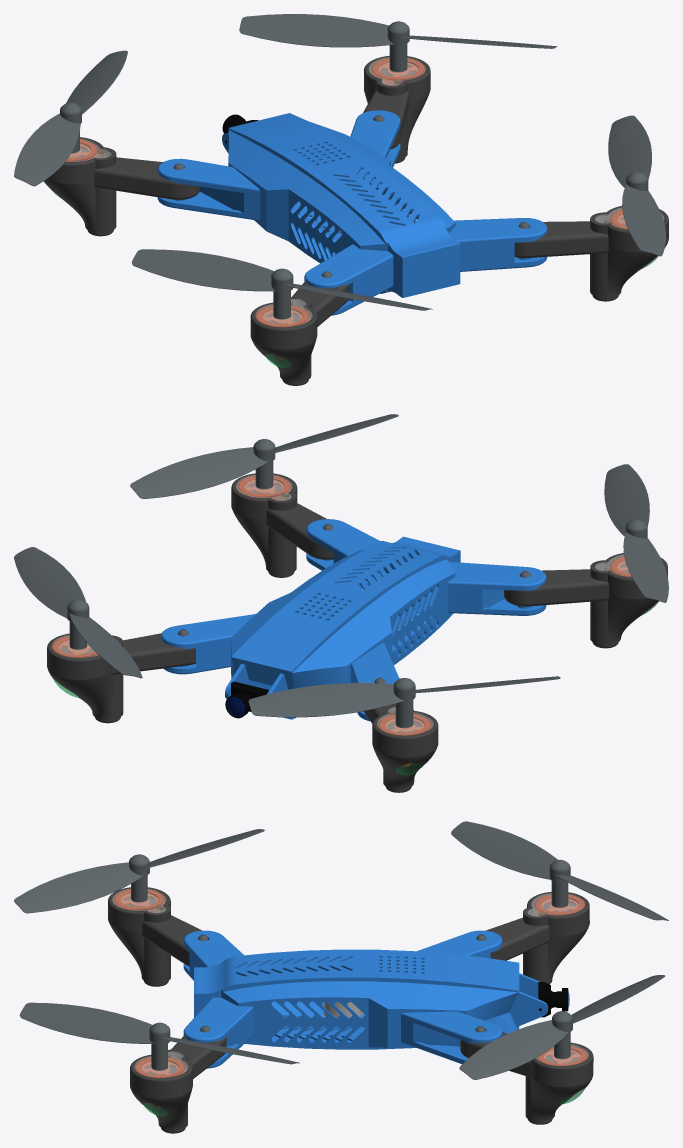
File: Drone.glb
The picture shows the model from 3 angles, top to bottom: view 1: azimuth 30°, elevation 25°; view 2: azimuth 150°, elevation 25°; view 3: azimuth 270°, elevation 25°; orthographic projection. The views are drawn at different scales.
Parts seen in each view (by area): view 1: Main-frame_MIR, Main-frame, Leg.009, Leg.011, Impellar-Blade.003, Impellar-Blade.001, Impellar-Blade.002, Impellar-Blade, Leg.005, Leg.007, Leg.003, Leg.001 (+3 smaller); view 2: Main-frame_MIR, Leg.005, Impellar-Blade.002, Impellar-Blade, Leg.007, Leg.011, Impellar-Blade.003, Impellar-Blade.001, Main-frame, Leg.009, Leg, Arm-gear.005 (+3 smaller); view 3: Main-frame_MIR, Main-frame, Impellar-Blade, Impellar-Blade.001, Impellar-Blade.002, Impellar-Blade.003, Leg.009, Leg.005, Leg.011, Leg.007, Leg.001, Leg.002 (+7 smaller).
Boxes of the visible parts, x1,y1,x2,y2 form: Main-frame_MIR: (157, 110, 547, 291); Main-frame: (157, 139, 547, 315); Leg.009: (44, 137, 200, 236); Leg.011: (514, 206, 668, 301); Impellar-Blade.003: (239, 14, 557, 72); Impellar-Blade.001: (131, 249, 432, 319); Impellar-Blade.002: (14, 50, 127, 186); Impellar-Blade: (608, 115, 665, 256); Leg.005: (250, 282, 349, 385); Leg.007: (363, 55, 430, 163); Leg.003: (369, 57, 425, 85); Leg.001: (255, 299, 312, 326); Main-frame_MIR: (161, 519, 546, 694); Leg.005: (504, 553, 667, 648); Impellar-Blade.002: (248, 676, 560, 728); Impellar-Blade: (130, 414, 398, 498); Leg.007: (47, 633, 195, 723); Leg.011: (231, 473, 333, 577); Impellar-Blade.003: (14, 547, 142, 678); Impellar-Blade.001: (604, 464, 668, 602); Main-frame: (163, 553, 546, 721); Leg.009: (364, 704, 438, 792); Leg: (236, 475, 292, 500); Arm-gear.005: (225, 681, 268, 718); Main-frame_MIR: (183, 930, 548, 1043); Main-frame: (183, 963, 547, 1068); Impellar-Blade: (19, 1002, 299, 1070); Impellar-Blade.001: (14, 829, 264, 913); Impellar-Blade.002: (451, 821, 668, 920); Impellar-Blade.003: (459, 975, 665, 1079); Leg.009: (486, 892, 589, 984); Leg.005: (108, 887, 201, 986); Leg.011: (130, 1036, 226, 1133); Leg.007: (460, 1032, 593, 1124); Leg.001: (112, 888, 166, 912); Leg.002: (527, 893, 584, 916).
Size of the model in its own units: 0.2837 by 0.0612 by 0.312.
